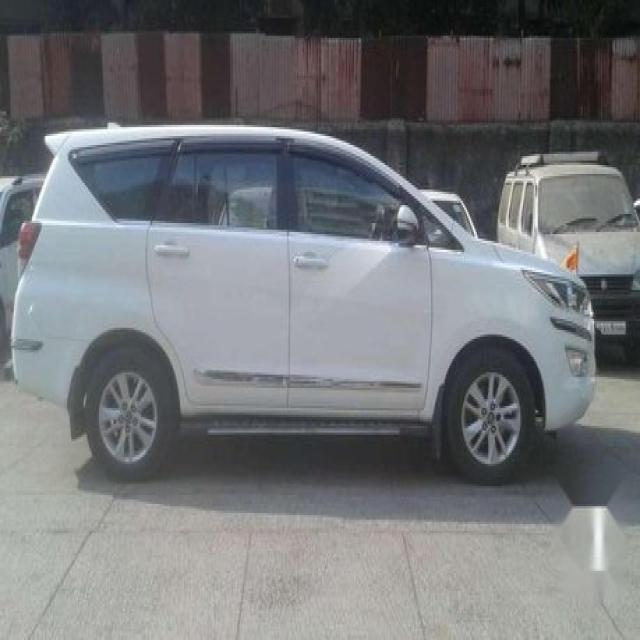light_vehicle: (10, 123, 598, 486)
